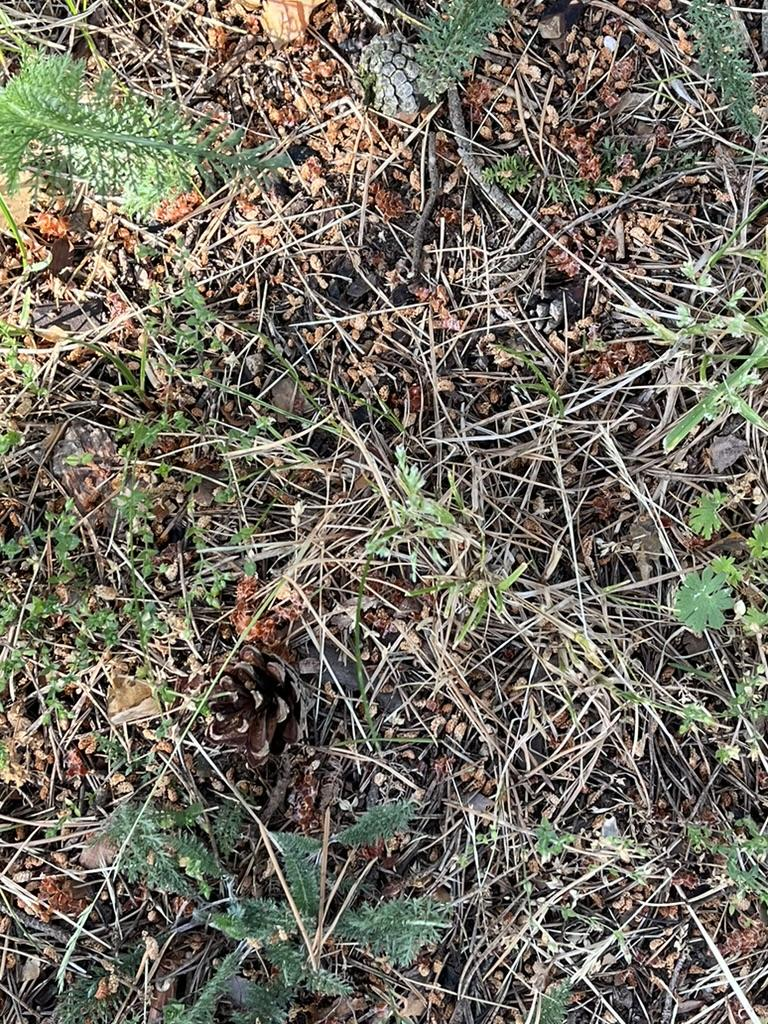pine: (181, 628, 336, 773), (351, 16, 458, 118)
